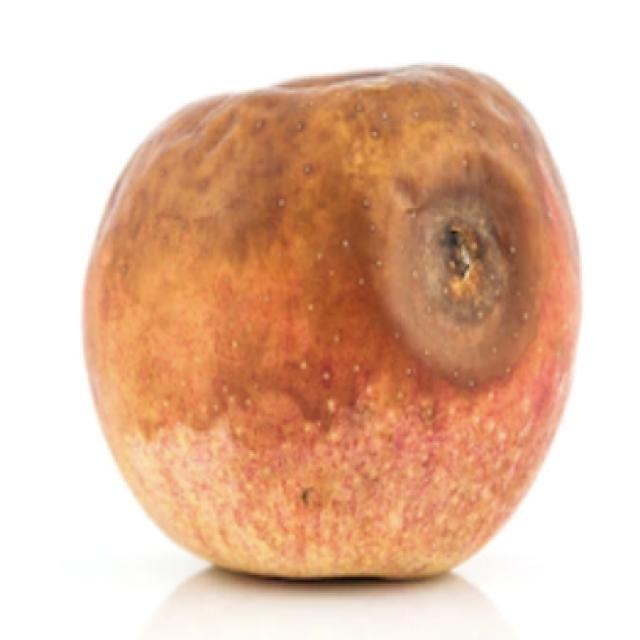Rotten: (108, 73, 575, 590)
